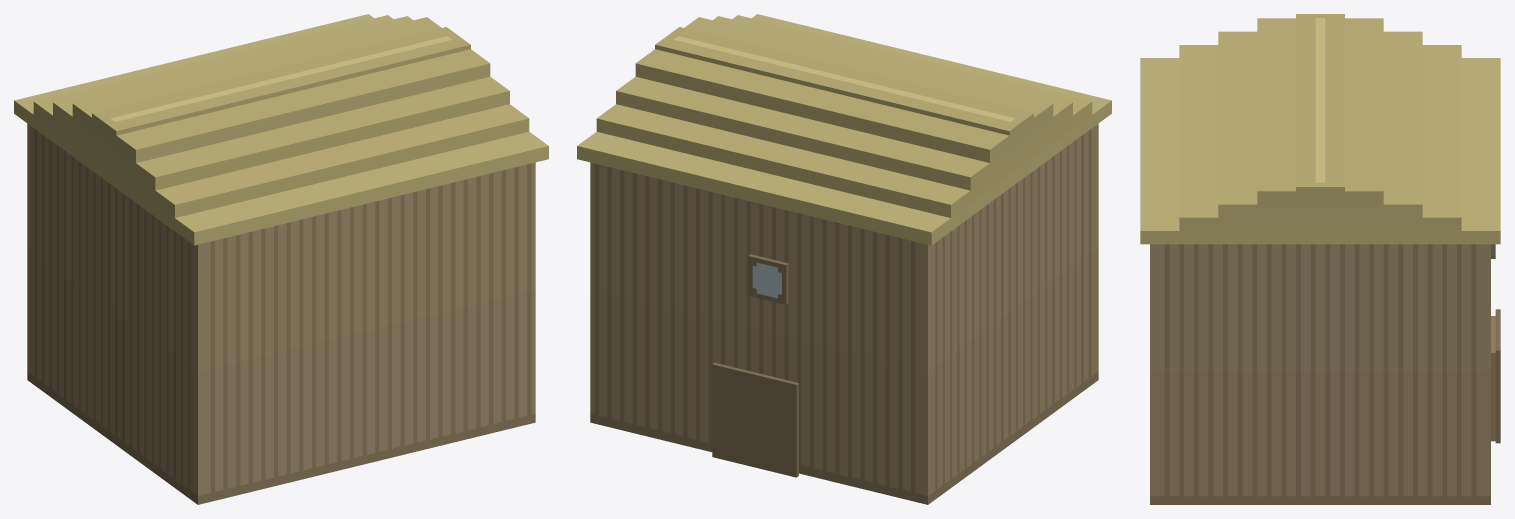
Rendered from granero_04.glb.
3 renders of one model, left to right at view 1: azimuth 30°, elevation 25°; view 2: azimuth 150°, elevation 25°; view 3: azimuth 270°, elevation 25°, orthographic.
Parts seen in each view (by area): view 1: granero_04; view 2: granero_04; view 3: granero_04.
Part boxes in pixels (bbox=[...]): granero_04: bbox=[14, 14, 548, 504]; granero_04: bbox=[577, 14, 1111, 504]; granero_04: bbox=[1140, 14, 1500, 504].
Size of the model in its own units: 8.4 by 7.3 by 7.4.
